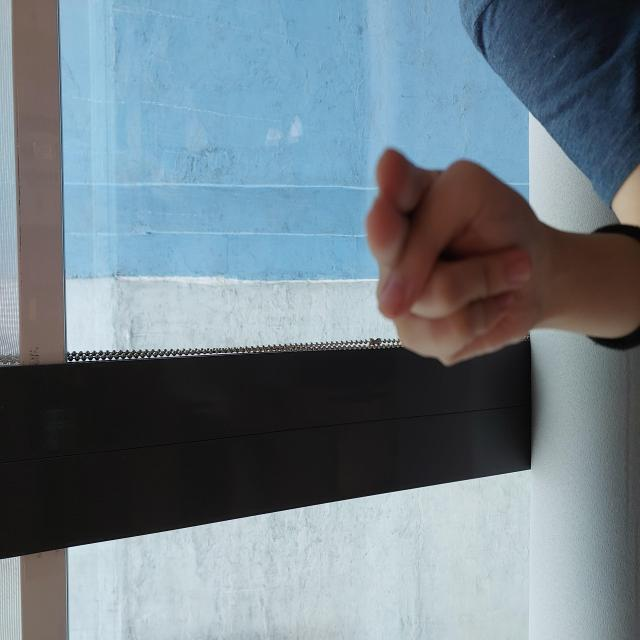N: (274, 365, 493, 541)
